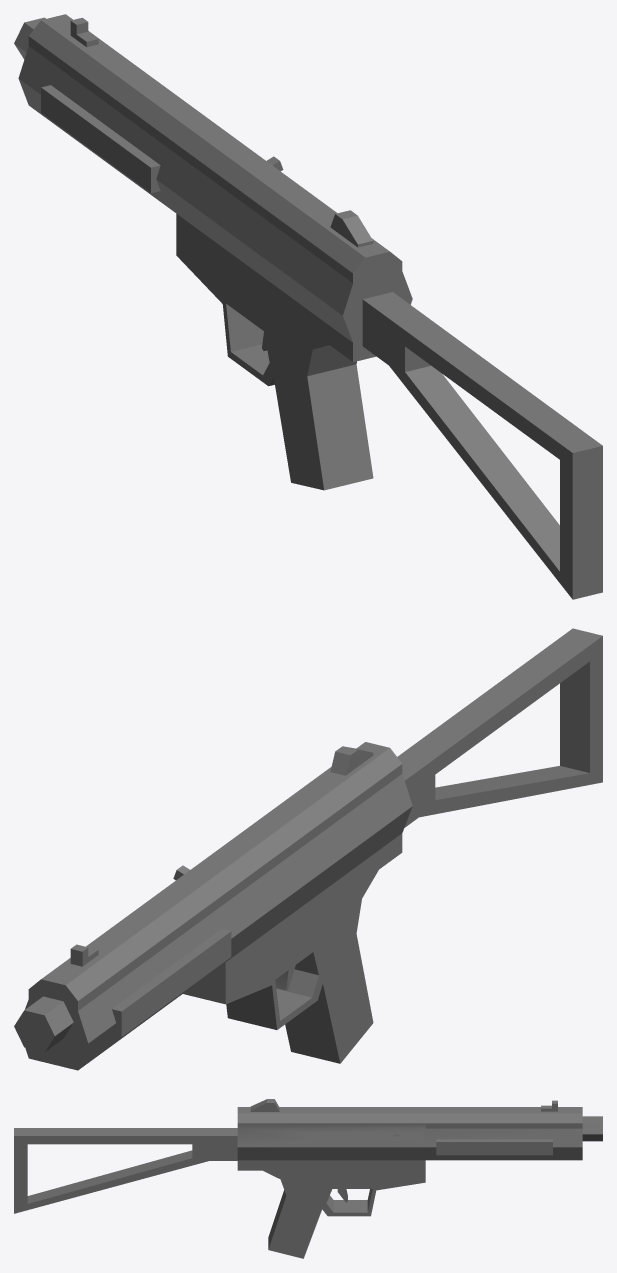
Rendered from SMG.glb.
3 renders of one model, top to bottom at view 1: azimuth 30°, elevation 25°; view 2: azimuth 150°, elevation 25°; view 3: azimuth 270°, elevation 25°, orthographic. The views are drawn at different scales.
Visible parts, largest first — view 1: SMG2_Body, SMG2_Stock, SMG2_Rail; view 2: SMG2_Body, SMG2_Stock, SMG2_Rail, SMG2_Barrel; view 3: SMG2_Body, SMG2_Stock, SMG2_Rail, SMG2_Body_SMG2_Metal_0.001, SMG2_Barrel.
Boxes of the visible parts, left/top/right/bottom form: SMG2_Body: left=18, top=14, right=412, bottom=490; SMG2_Stock: left=362, top=292, right=602, bottom=599; SMG2_Rail: left=41, top=85, right=160, bottom=193; SMG2_Body: left=25, top=742, right=412, bottom=1070; SMG2_Stock: left=397, top=628, right=602, bottom=827; SMG2_Rail: left=112, top=929, right=231, bottom=1036; SMG2_Barrel: left=14, top=996, right=73, bottom=1052; SMG2_Body: left=237, top=1099, right=582, bottom=1258; SMG2_Stock: left=14, top=1128, right=237, bottom=1213; SMG2_Rail: left=436, top=1139, right=552, bottom=1155; SMG2_Body_SMG2_Metal_0.001: left=308, top=1133, right=419, bottom=1142; SMG2_Barrel: left=582, top=1116, right=602, bottom=1141.
Bounding box in the file's own units: 0.0376 × 0.111 × 0.3914.
1 material, 1 textured.
